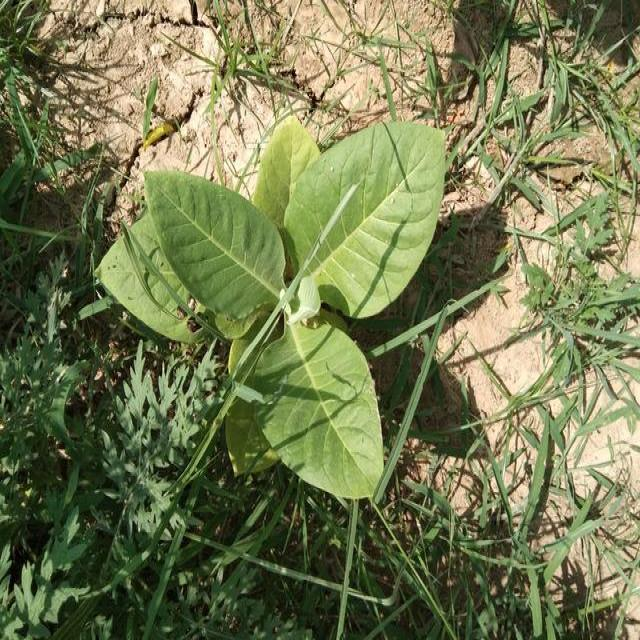crop: (102, 147, 466, 510)
